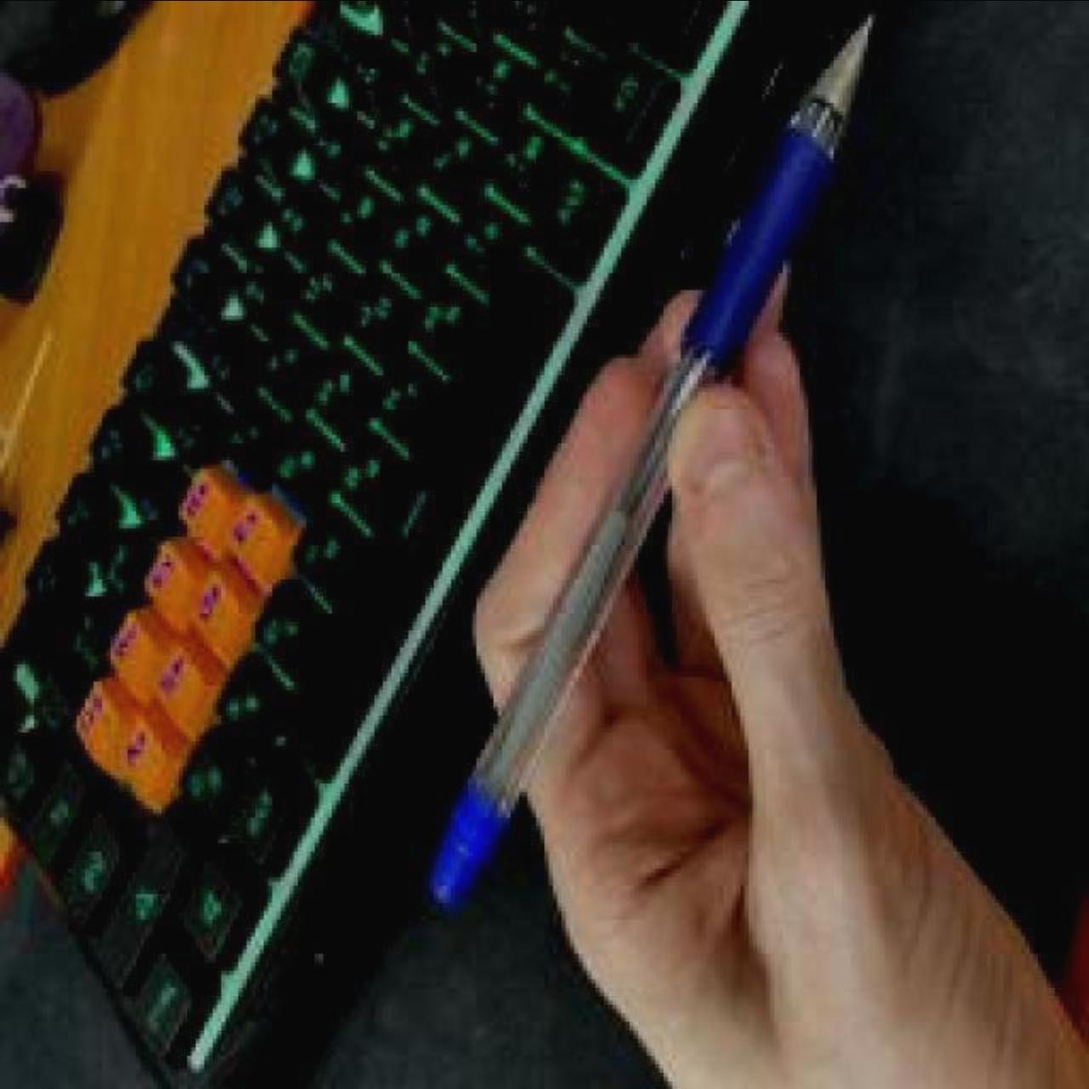pen: (425, 9, 876, 907)
